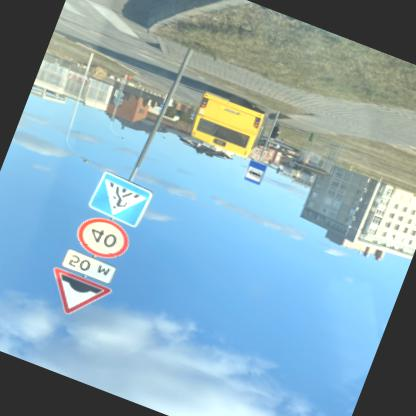crosswalk: (83, 171, 151, 230)
speedlimit: (69, 211, 131, 265)
